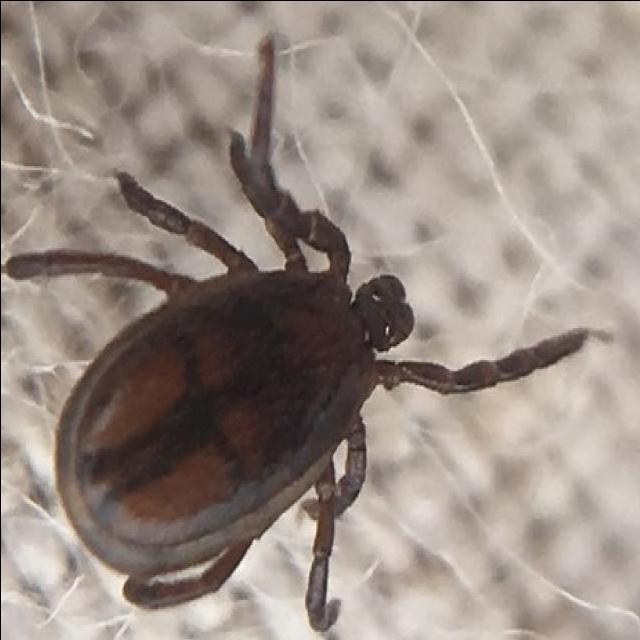Ixodes Ricinus-M: (4, 32, 587, 631)
